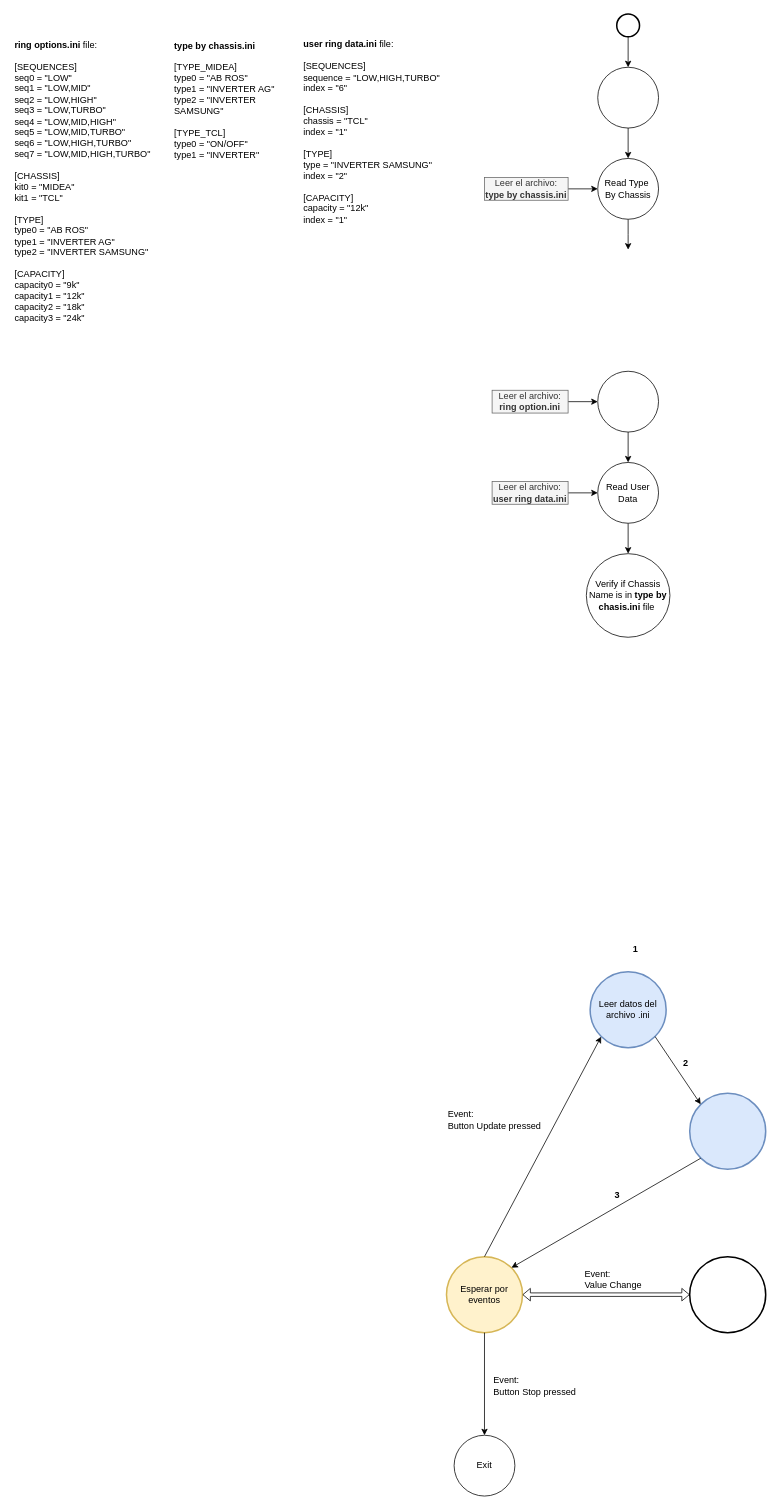
Image size: 779x1509. Some labels were removed from this diagram. The shapes that lost their labels are listed below. From the top down, each one's box as (x1, y1, x2, y2) in pixels, then its label:
(597, 66, 659, 128): Clean Ring Controls
(597, 370, 659, 432): Read Ring Options
(689, 1092, 766, 1170): Actualizar los datos de los indicadores del FP
(689, 1256, 766, 1333): Escribir los cambios en el archivo .ini
